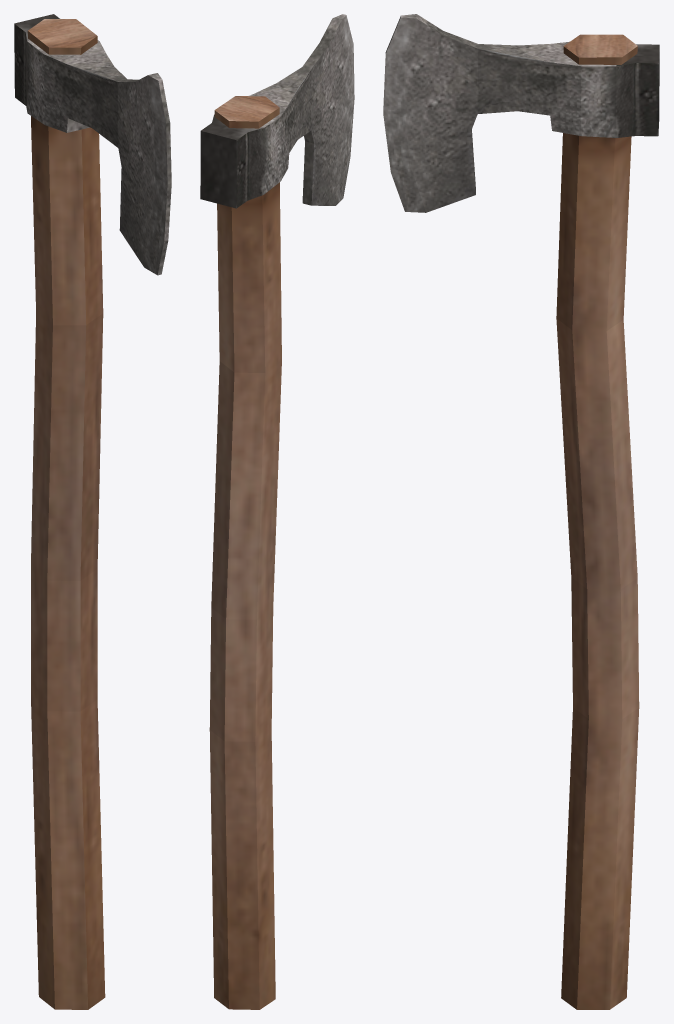
The model's file is axe_model.fbx.
3 renders of one model, left to right at view 1: azimuth 30°, elevation 25°; view 2: azimuth 150°, elevation 25°; view 3: azimuth 270°, elevation 25°, orthographic. The views are drawn at different scales.
Visible parts, largest first — view 1: pasted__Cylinder, pasted__Cube; view 2: pasted__Cylinder, pasted__Cube; view 3: pasted__Cylinder, pasted__Cube.
Part boxes in pixels (bbox=[...]): pasted__Cylinder: bbox=[27, 19, 105, 1009]; pasted__Cube: bbox=[14, 14, 171, 275]; pasted__Cylinder: bbox=[209, 96, 281, 1009]; pasted__Cube: bbox=[200, 14, 354, 208]; pasted__Cylinder: bbox=[556, 34, 639, 1009]; pasted__Cube: bbox=[383, 14, 659, 212].
Size of the model in its own units: 76.44 by 1235 by 317.
